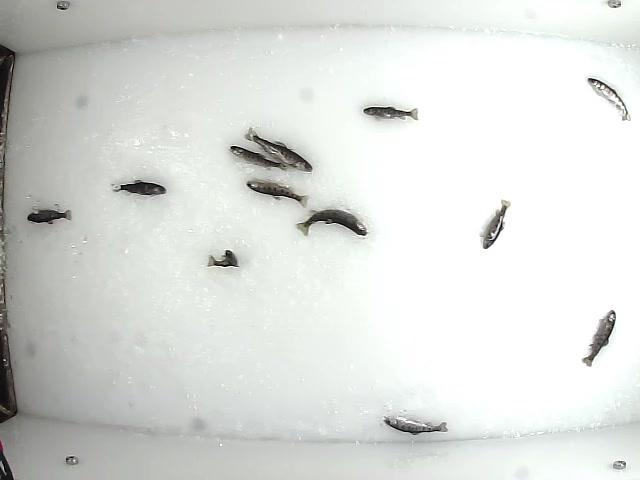fish: (243, 127, 316, 174), (294, 206, 368, 239), (580, 307, 618, 370), (585, 75, 633, 124), (227, 144, 289, 173), (244, 180, 310, 207), (478, 198, 510, 250), (380, 415, 450, 436), (360, 105, 424, 125), (107, 177, 167, 198), (23, 205, 75, 226), (204, 247, 240, 270)
